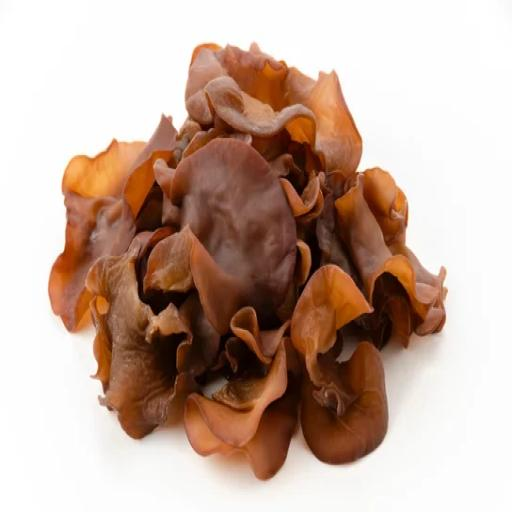Wood Ear Mushroom: (45, 29, 461, 478)
